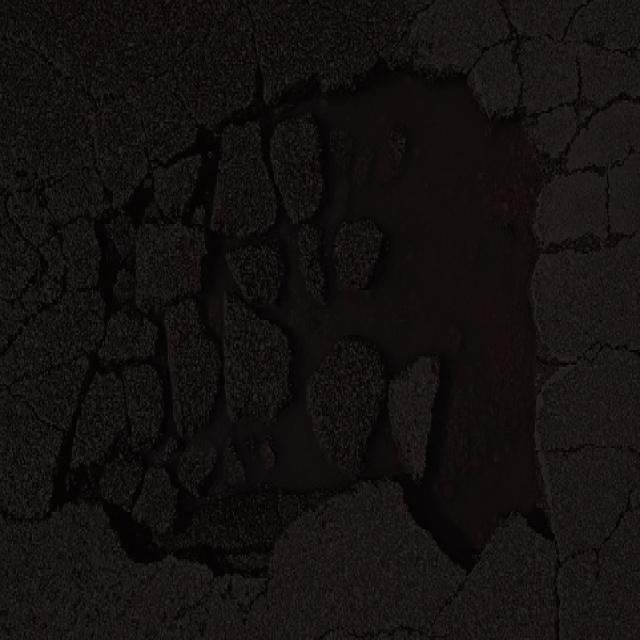Pothole: (79, 51, 581, 571)
